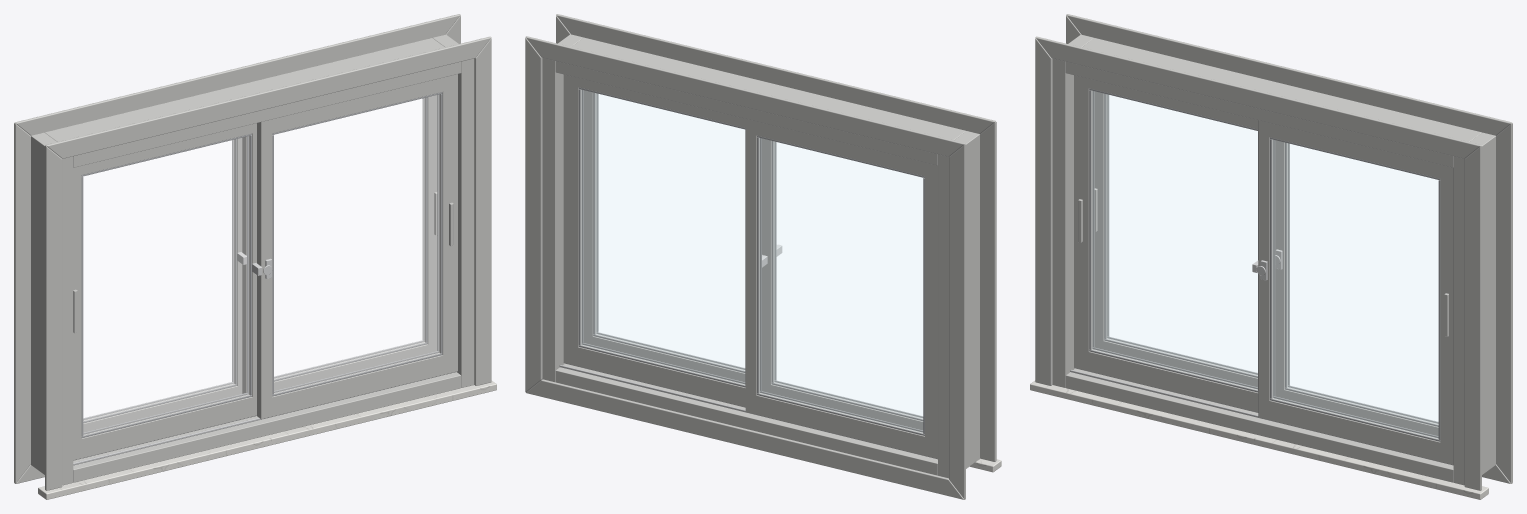
Rendered from window_bed.glb.
3 views of the same model, side by side, from view 1: azimuth 30°, elevation 25°; view 2: azimuth 150°, elevation 25°; view 3: azimuth 330°, elevation 25° (orthographic).
Visible parts, largest first — view 1: window_bed_glass, window_bed_casing, window_bed_frame, window_bed_sash_inner_r, window_bed_sash_inner_l, window_bed_sash_outer_r, window_bed_sill, window_bed_sash_outer_l, window_bed_hardware; view 2: window_bed_glass, window_bed_casing, window_bed_frame, window_bed_sash_outer_l, window_bed_sash_outer_r, window_bed_sash_inner_r, window_bed_sash_inner_l; view 3: window_bed_glass, window_bed_casing, window_bed_frame, window_bed_sash_inner_r, window_bed_sash_inner_l, window_bed_sash_outer_l, window_bed_sash_outer_r, window_bed_sill, window_bed_hardware.
Boxes of the visible parts, left/top/right/bottom form: window_bed_glass: left=83, top=95, right=439, bottom=434; window_bed_casing: left=14, top=14, right=491, bottom=490; window_bed_frame: left=31, top=34, right=474, bottom=485; window_bed_sash_inner_r: left=257, top=74, right=457, bottom=419; window_bed_sash_inner_l: left=73, top=123, right=256, bottom=460; window_bed_sash_outer_r: left=242, top=95, right=437, bottom=393; window_bed_sill: left=38, top=380, right=496, bottom=499; window_bed_sash_outer_l: left=83, top=138, right=242, bottom=432; window_bed_hardware: left=73, top=192, right=453, bottom=333; window_bed_glass: left=581, top=90, right=922, bottom=432; window_bed_casing: left=525, top=14, right=996, bottom=499; window_bed_frame: left=542, top=34, right=979, bottom=478; window_bed_sash_outer_l: left=745, top=119, right=937, bottom=458; window_bed_sash_outer_r: left=563, top=74, right=745, bottom=407; window_bed_sash_inner_r: left=584, top=90, right=745, bottom=382; window_bed_sash_inner_l: left=762, top=138, right=923, bottom=430; window_bed_glass: left=1092, top=91, right=1438, bottom=438; window_bed_casing: left=1035, top=14, right=1512, bottom=490; window_bed_frame: left=1052, top=34, right=1495, bottom=485; window_bed_sash_inner_r: left=1258, top=120, right=1453, bottom=464; window_bed_sash_inner_l: left=1074, top=75, right=1258, bottom=412; window_bed_sash_outer_l: left=1094, top=91, right=1257, bottom=387; window_bed_sash_outer_r: left=1275, top=140, right=1438, bottom=436; window_bed_sill: left=1030, top=380, right=1488, bottom=499; window_bed_hardware: left=1078, top=188, right=1448, bottom=336.
Size of the model in its own units: 1.79 by 1.37 by 0.242.
6 materials, 1 textured.
